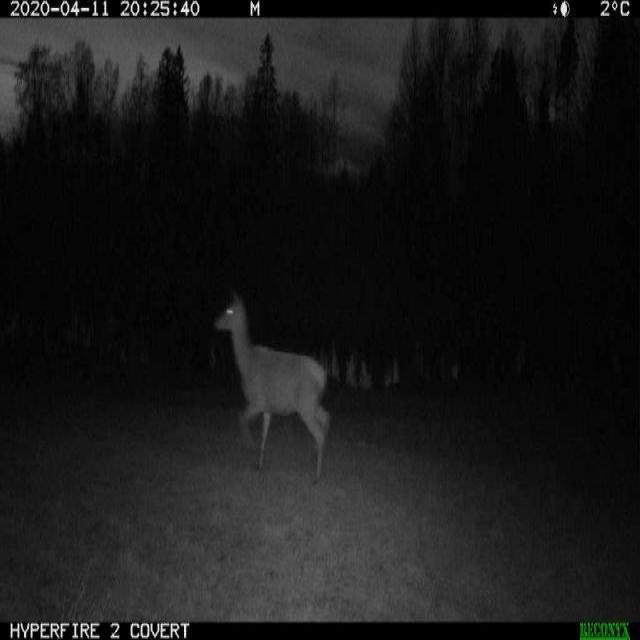deer: (207, 280, 348, 480)
